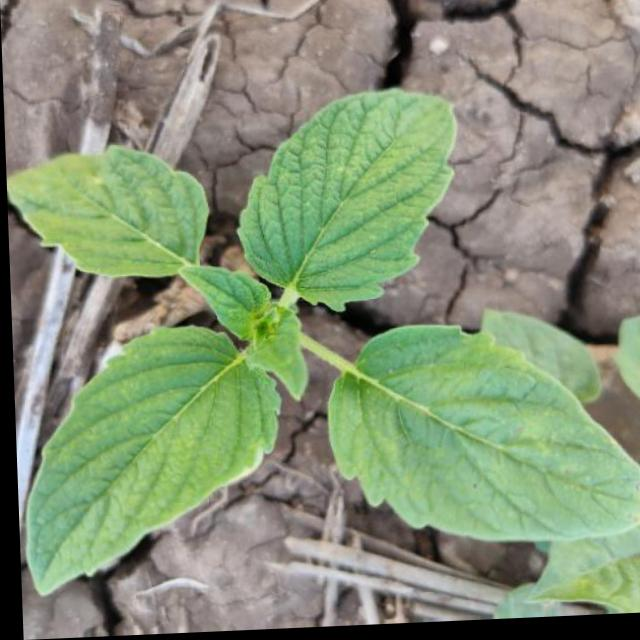crop: (4, 79, 640, 596)
